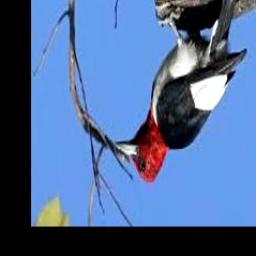Woodpecker: (115, 0, 246, 184)
